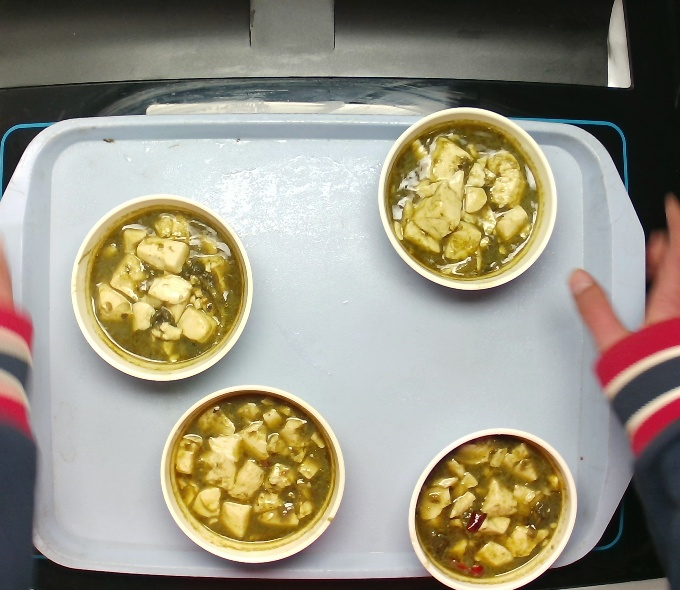wcq-SuanCaiDouFu: (166, 388, 337, 548), (382, 117, 544, 283), (84, 205, 246, 368), (413, 432, 566, 582)
